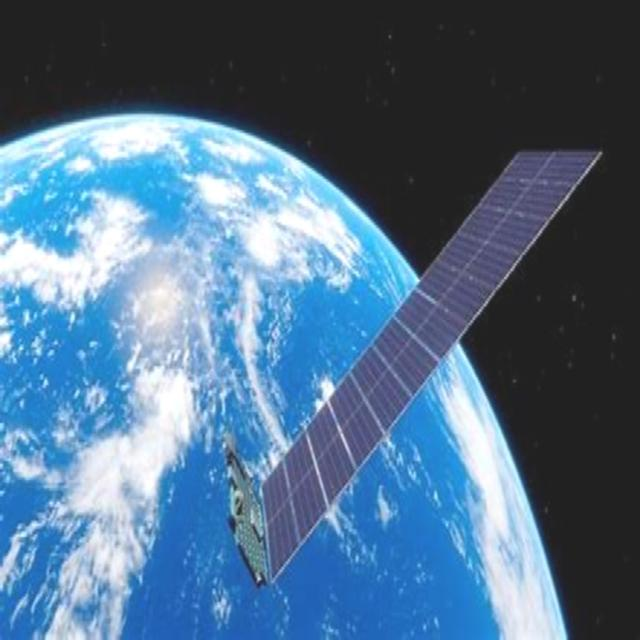satellite: (217, 124, 618, 594)
